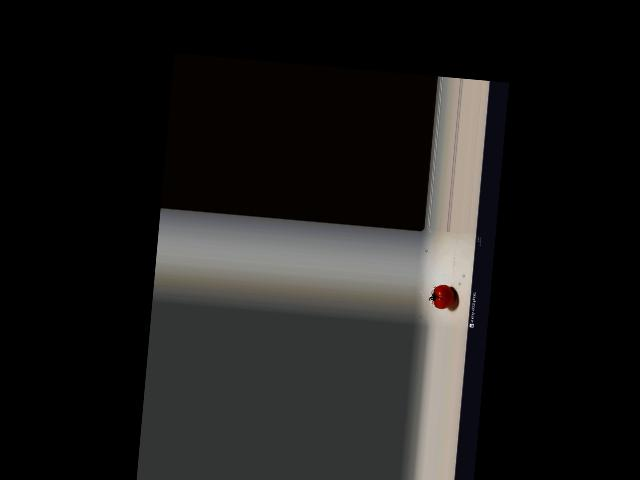tomato: (432, 283, 456, 309)
